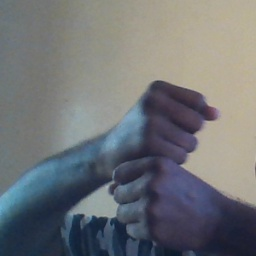G: (109, 72, 222, 244)
